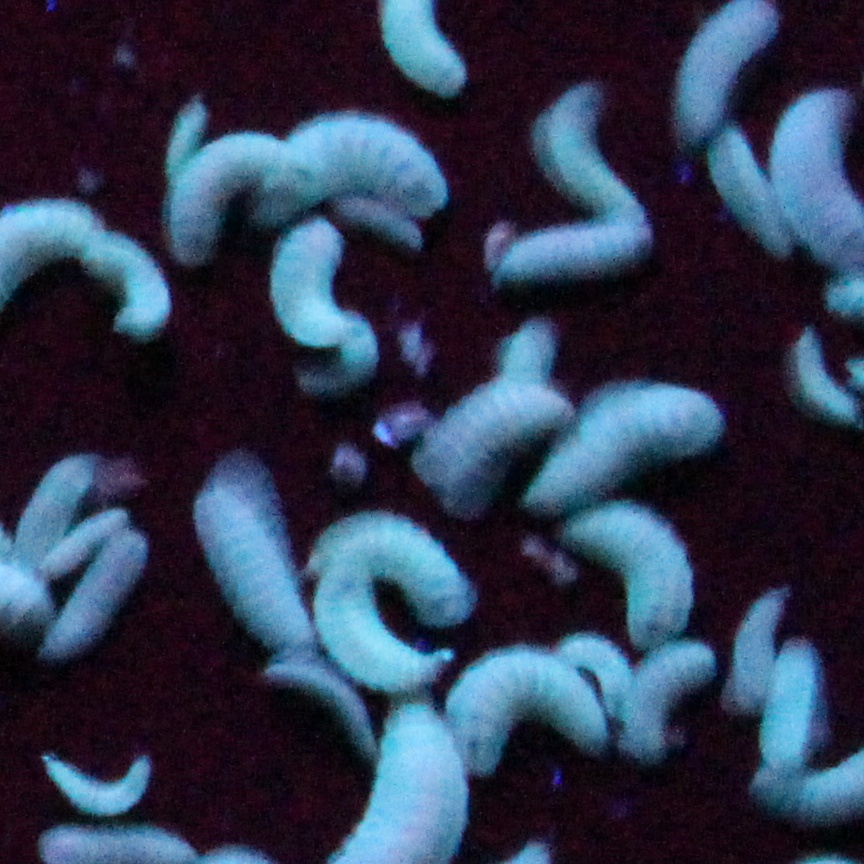larve: (191, 451, 316, 658), (526, 383, 724, 510), (443, 651, 614, 774), (257, 110, 451, 212), (316, 547, 445, 691), (312, 512, 476, 622), (530, 74, 649, 224), (405, 380, 574, 474), (572, 503, 689, 637), (168, 128, 282, 255), (37, 528, 145, 658), (705, 128, 797, 262), (612, 641, 716, 755), (266, 214, 343, 339), (487, 224, 662, 278), (89, 230, 172, 339), (14, 445, 99, 551), (41, 747, 162, 818), (764, 635, 822, 766), (789, 328, 864, 422), (45, 508, 132, 570)
